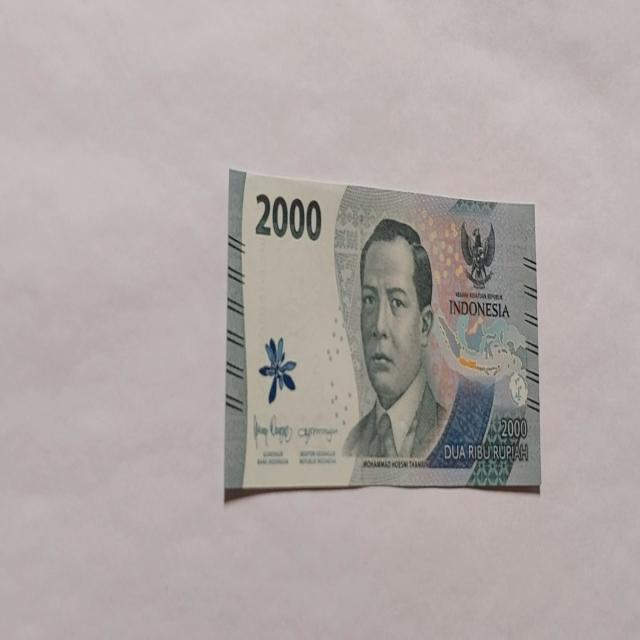dua ribu rupiah: (224, 167, 540, 498), (341, 216, 451, 480)
